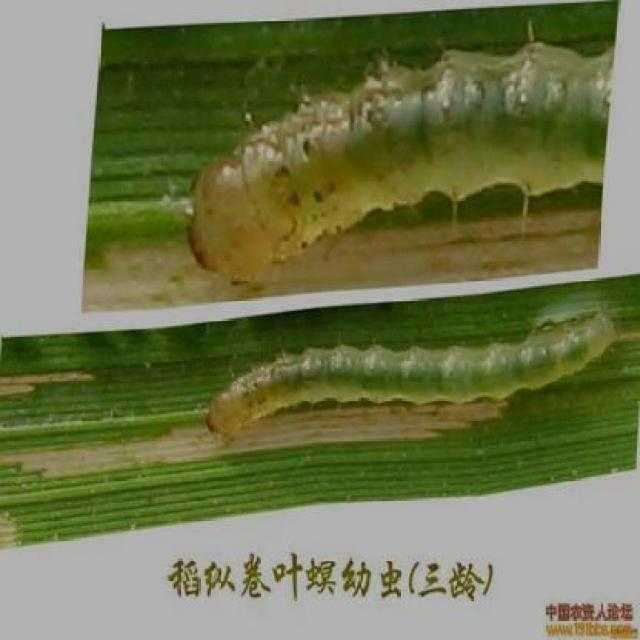leaf-folder: (175, 56, 600, 275), (192, 323, 612, 452)
